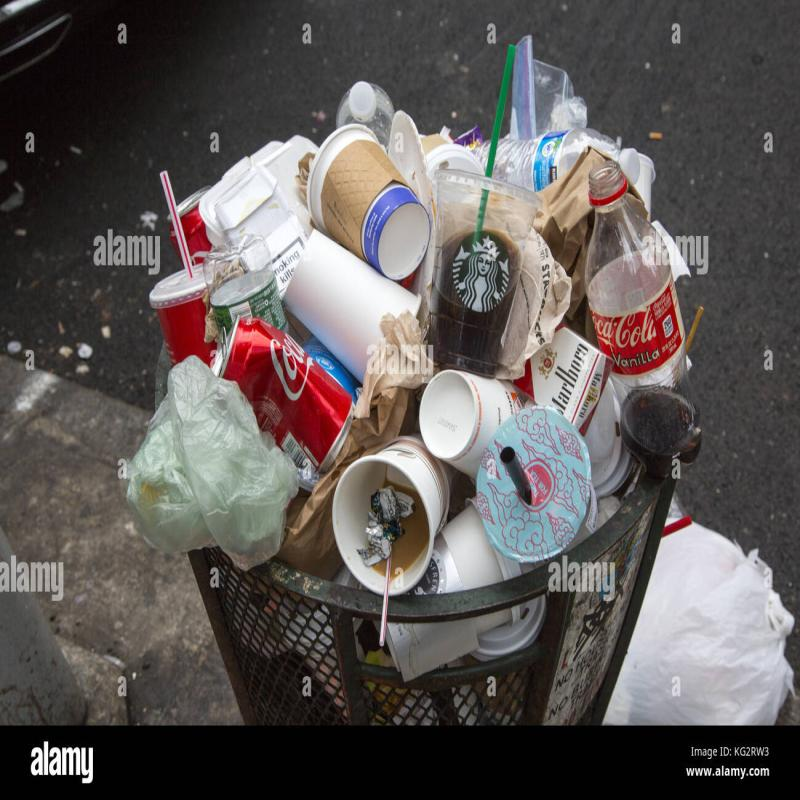botella: (582, 165, 708, 480), (471, 128, 639, 204), (203, 232, 296, 341), (332, 78, 404, 152)
